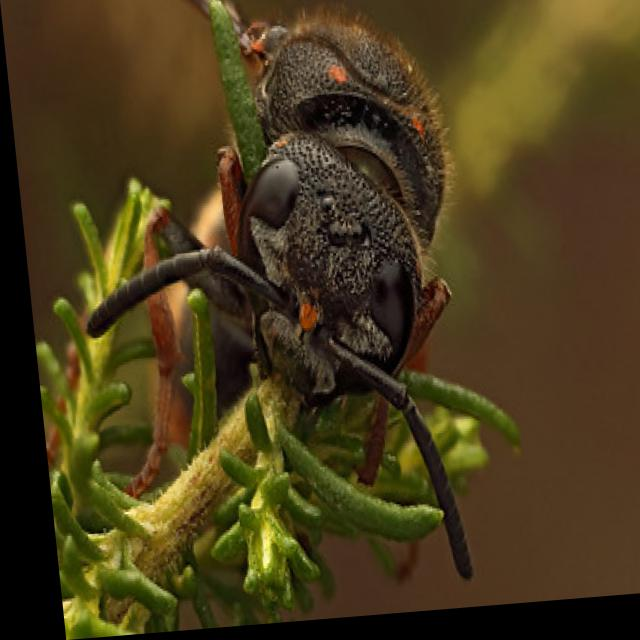Guepe: (46, 0, 537, 616)
